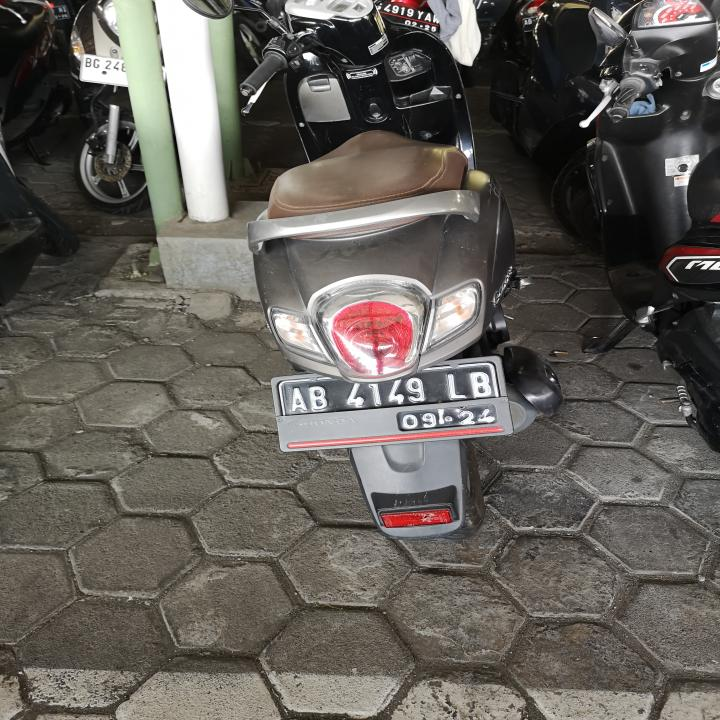plate: (275, 357, 506, 445), (376, 1, 444, 33)
